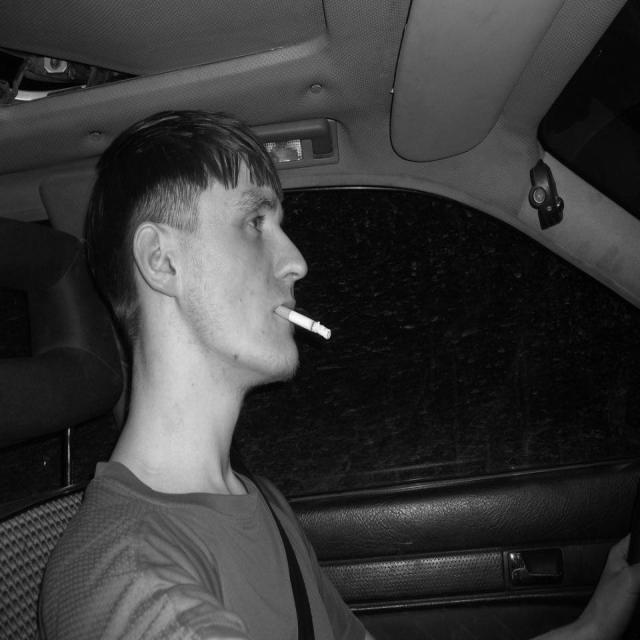Cigarette: (273, 303, 338, 344)
Seatbelt: (275, 476, 318, 637)
